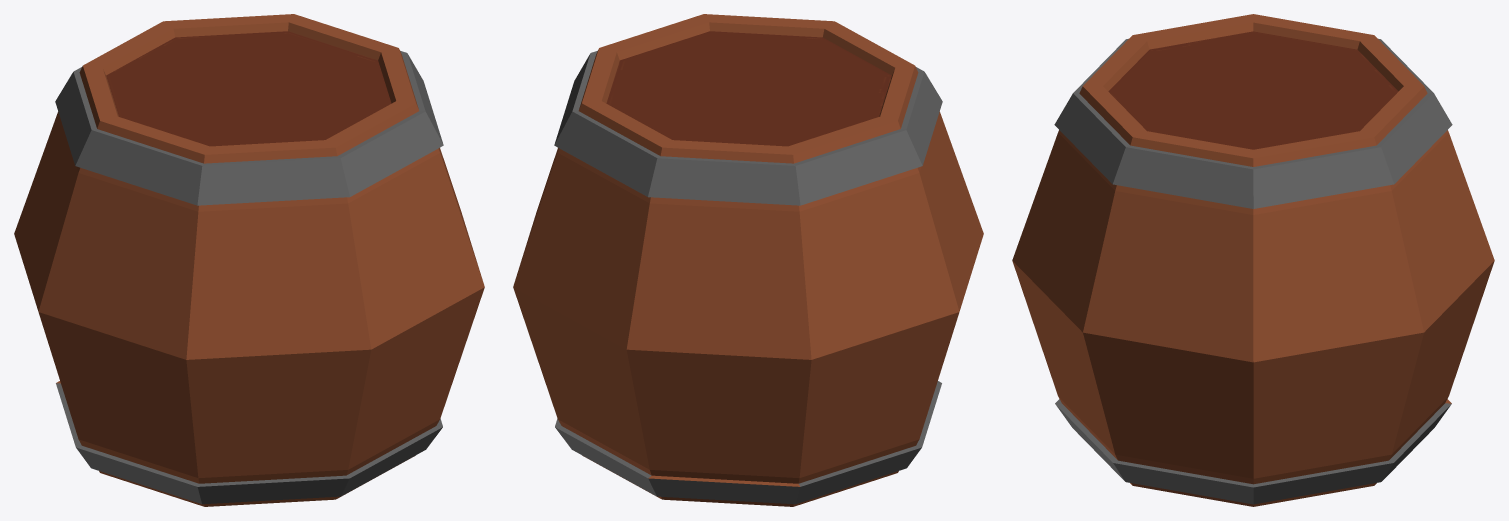
File: barrel.fbx
The picture shows the model from 3 angles, left to right: view 1: azimuth 30°, elevation 25°; view 2: azimuth 150°, elevation 25°; view 3: azimuth 270°, elevation 25°; orthographic projection.
Visible parts, largest first — view 1: Barrel; view 2: Barrel; view 3: Barrel.
Part boxes in pixels (x1,y1,x2,y2): Barrel: (14,14,484,506); Barrel: (513,14,983,506); Barrel: (1012,14,1494,506).
Bounding box in the file's own units: 160 × 128 × 160.
